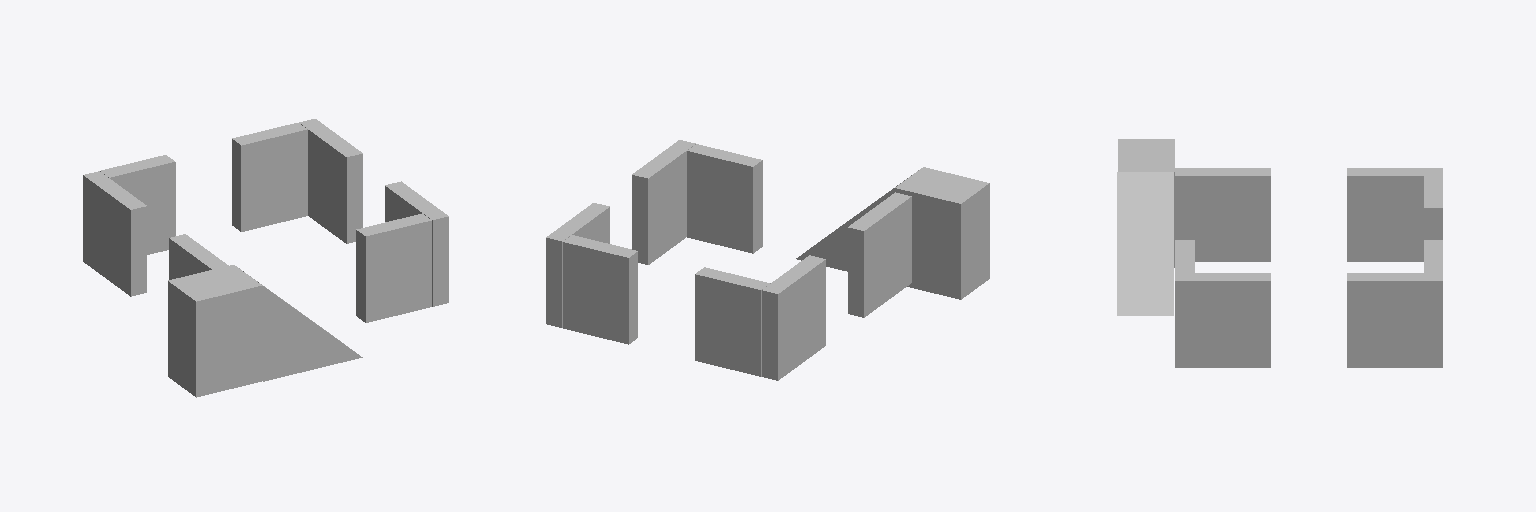
Rendered from level1innerwalls.obj.
3 views of the same model, side by side, from view 1: azimuth 30°, elevation 25°; view 2: azimuth 150°, elevation 25°; view 3: azimuth 270°, elevation 25° (orthographic).
Parts seen in each view (by area): view 1: Cube.018_Cube.001, Cube.012_Cube.014, Cube.011_Cube.013, Cube.007_Cube.009, Cube.014_Cube.016, Cube.017_Cube.021, Cube.008_Cube.010, Cube.013_Cube.015, Cube.009_Cube.011; view 2: Cube.018_Cube.001, Cube.011_Cube.013, Cube.012_Cube.014, Cube.008_Cube.010, Cube.007_Cube.009, Cube.009_Cube.011, Cube.013_Cube.015, Cube.014_Cube.016, Cube.017_Cube.021; view 3: Cube.014_Cube.016, Cube.013_Cube.015, Cube.009_Cube.011, Cube.017_Cube.021, Cube.007_Cube.009, Cube.018_Cube.001, Cube.008_Cube.010, Cube.011_Cube.013, Cube.012_Cube.014.
Part boxes in pixels (left/top/right/bottom): Cube.018_Cube.001: left=168, top=265, right=262, bottom=397; Cube.012_Cube.014: left=232, top=123, right=307, bottom=231; Cube.011_Cube.013: left=356, top=213, right=431, bottom=322; Cube.007_Cube.009: left=83, top=171, right=146, bottom=296; Cube.014_Cube.016: left=299, top=119, right=362, bottom=243; Cube.017_Cube.021: left=239, top=268, right=362, bottom=381; Cube.008_Cube.010: left=100, top=155, right=175, bottom=254; Cube.013_Cube.015: left=385, top=181, right=448, bottom=306; Cube.009_Cube.011: left=169, top=234, right=228, bottom=279; Cube.018_Cube.001: left=895, top=167, right=989, bottom=299; Cube.011_Cube.013: left=687, top=144, right=762, bottom=253; Cube.012_Cube.014: left=563, top=235, right=637, bottom=344; Cube.008_Cube.010: left=695, top=267, right=770, bottom=376; Cube.007_Cube.009: left=762, top=255, right=825, bottom=380; Cube.009_Cube.011: left=848, top=192, right=911, bottom=317; Cube.013_Cube.015: left=632, top=140, right=695, bottom=264; Cube.014_Cube.016: left=546, top=203, right=609, bottom=327; Cube.017_Cube.021: left=796, top=170, right=918, bottom=271; Cube.014_Cube.016: left=1347, top=273, right=1442, bottom=367; Cube.013_Cube.015: left=1175, top=273, right=1270, bottom=367; Cube.009_Cube.011: left=1175, top=168, right=1270, bottom=261; Cube.017_Cube.021: left=1117, top=172, right=1173, bottom=315; Cube.007_Cube.009: left=1347, top=168, right=1442, bottom=261; Cube.018_Cube.001: left=1118, top=139, right=1174, bottom=267; Cube.008_Cube.010: left=1424, top=176, right=1442, bottom=239; Cube.011_Cube.013: left=1175, top=240, right=1194, bottom=272; Cube.012_Cube.014: left=1424, top=240, right=1442, bottom=272.
Bounding box in the file's own units: 33.98 × 11.07 × 34.13.